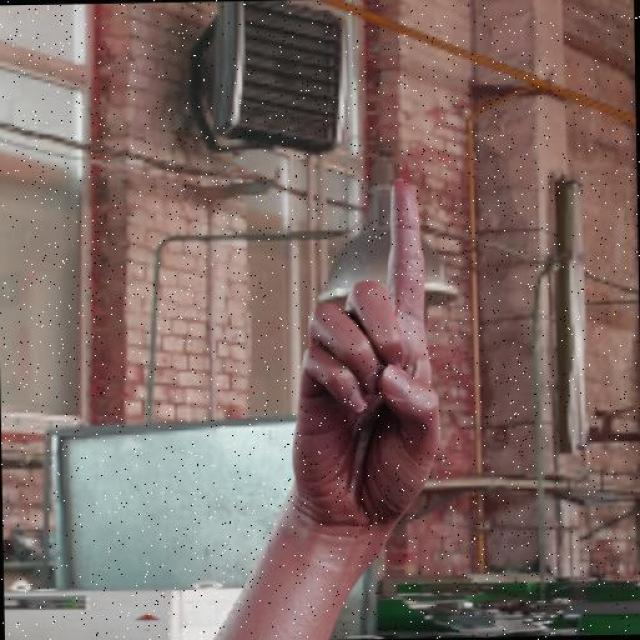D: (288, 172, 461, 539)
